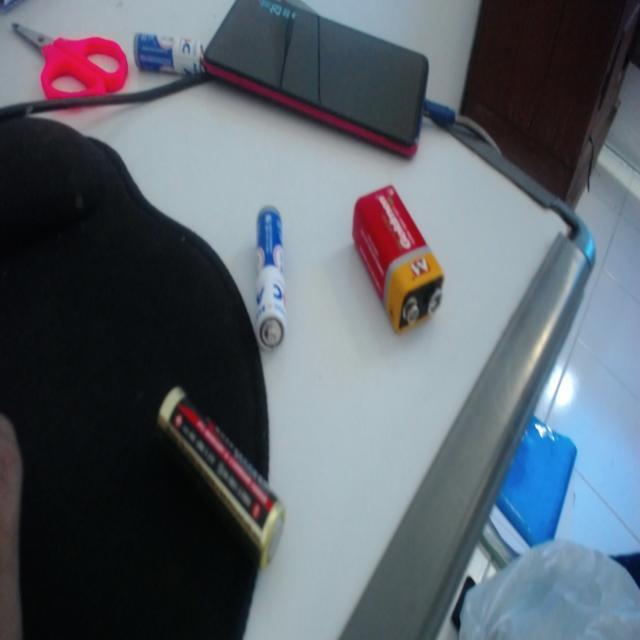9V: (346, 172, 446, 350)
AA: (140, 380, 306, 570)
AAA: (240, 187, 300, 379)
